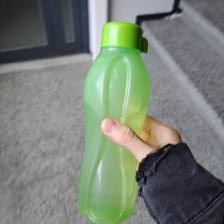bottle: (73, 19, 150, 223)
